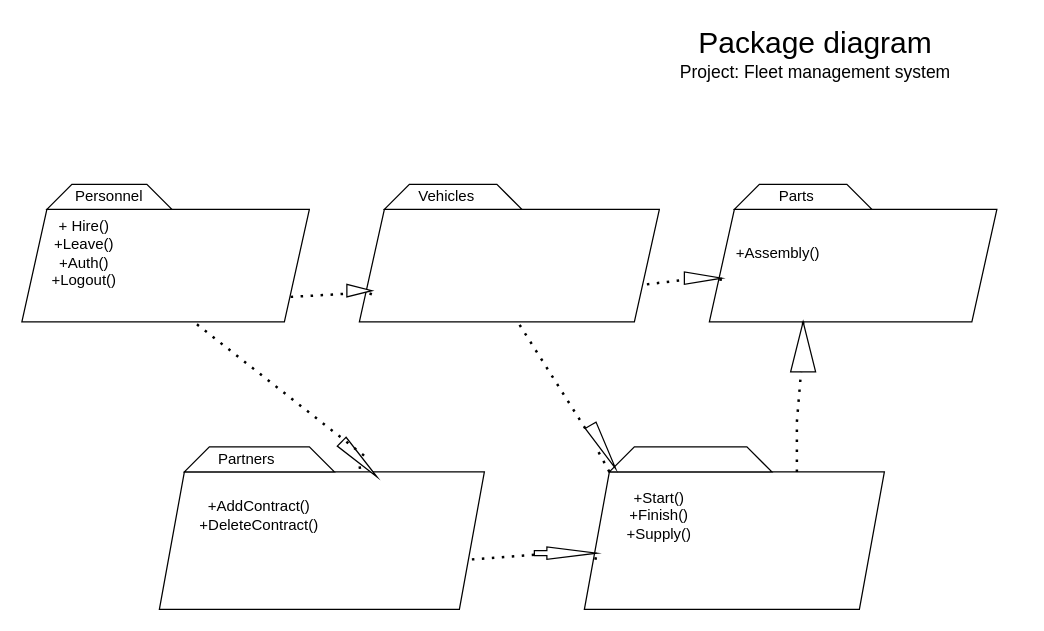
Image size: 1044x631. Some labels were removed from this diagram. Here are the shapes that lost their labels. From the top down, the box of each, then its label:
(358, 208, 659, 322): +Assign() +Maintain() +Buy() +Sell()
(608, 446, 772, 472): Maintenance
